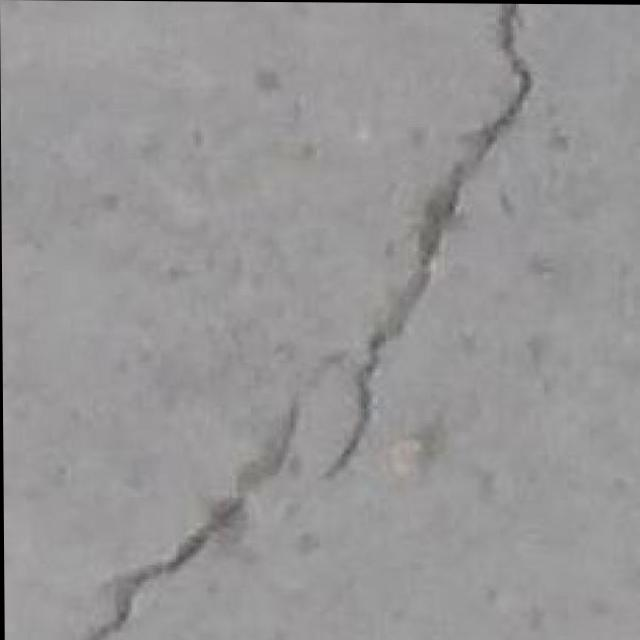Crack: (65, 0, 541, 640)
